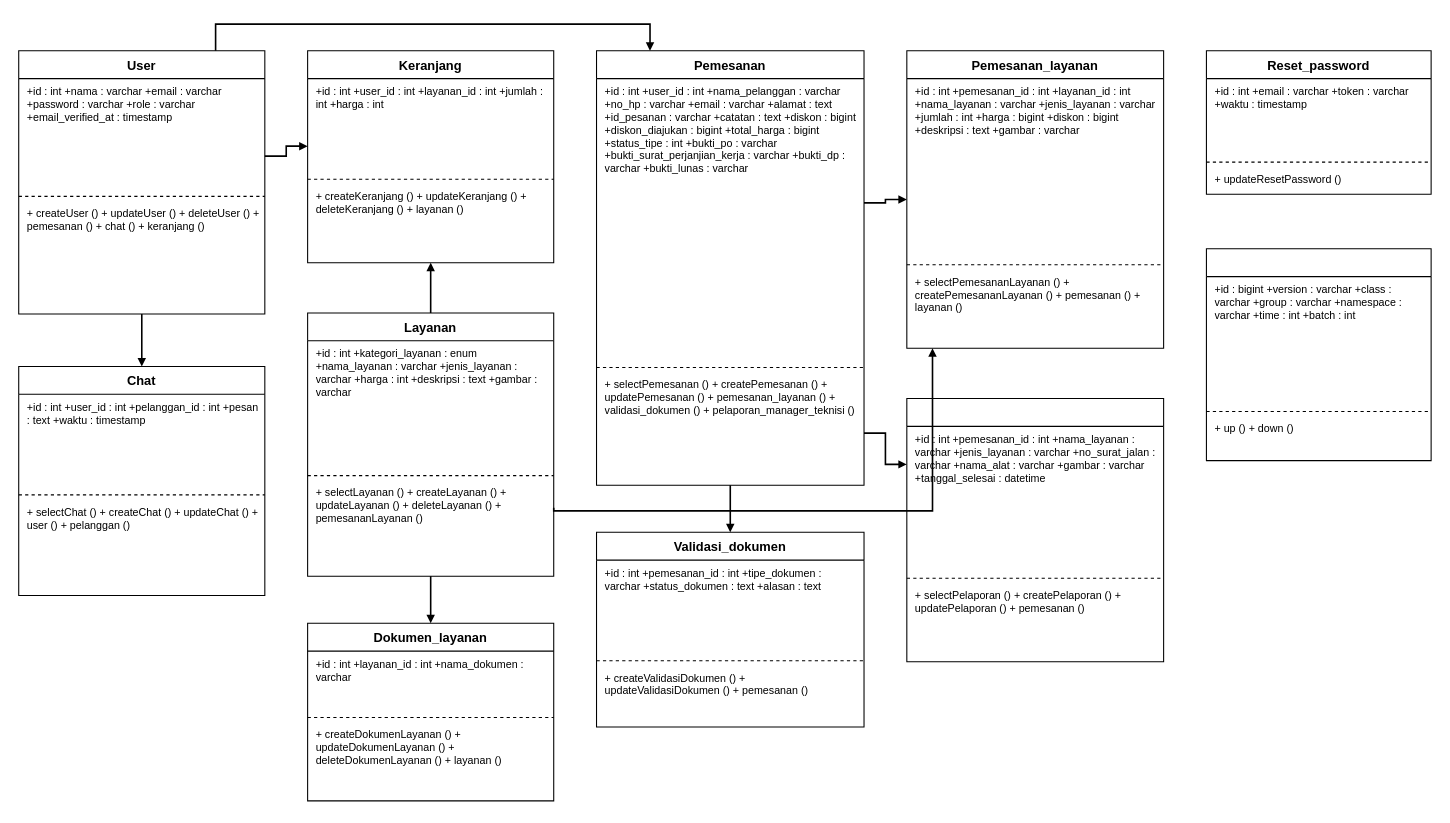
This 1450x823 diagram has some shape labels left out. The shapes that lost their labels are listed below. From the top down, each one's box as (x1, y1, x2, y2) in pixels, then its label:
(1205, 248, 1431, 461): Migrations
(906, 398, 1164, 662): Pelaporan_manager_teknisi
